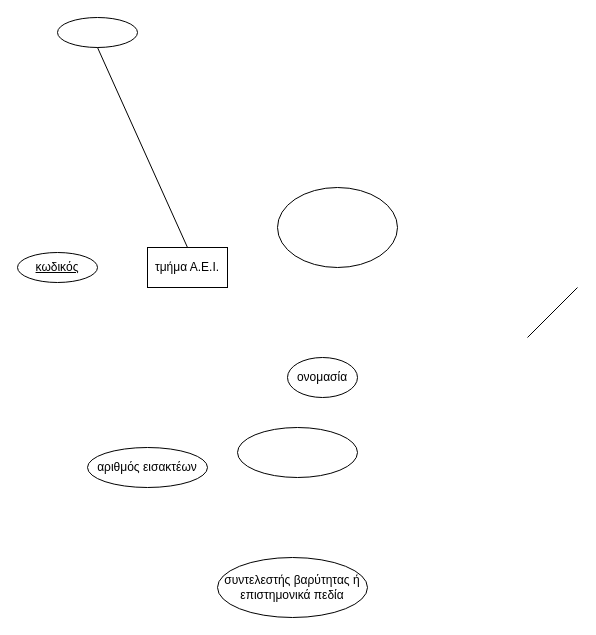
Some shapes in this 596 by 635 pixel diagram are drawn without their labels. The centre of each missing label's shape, as x and y in pixels:
πόλη έδρας: point 97,32
συντελεστής ΕΒΕ: point 297,452
σχολή: point 337,227
